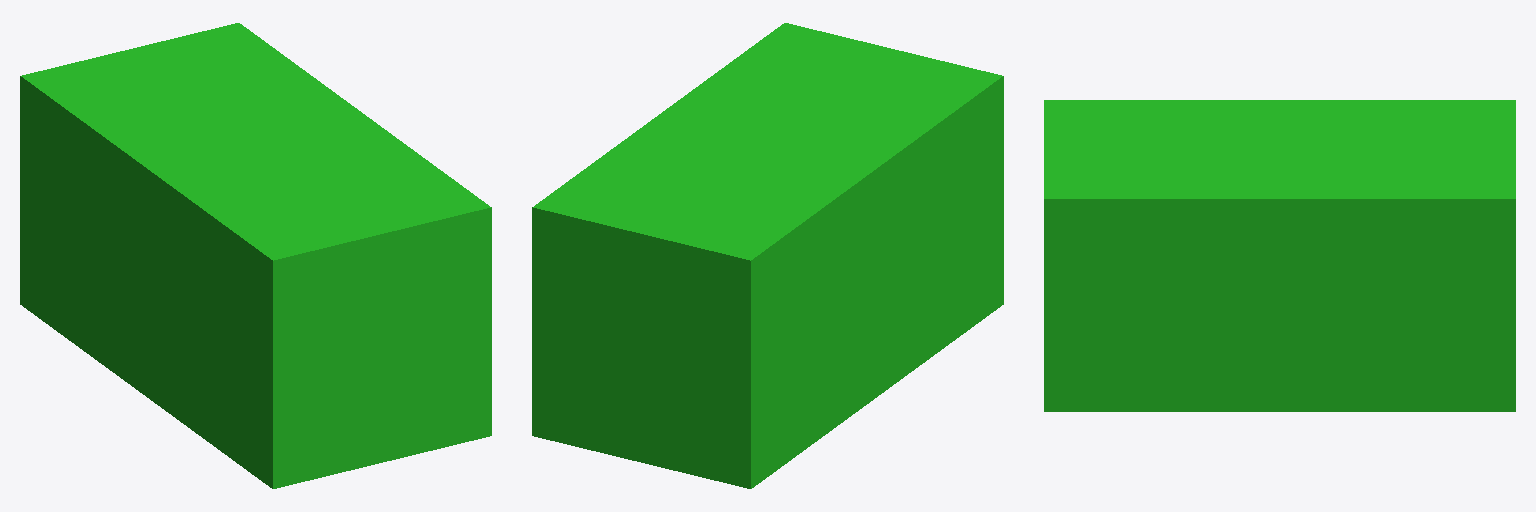
The robot description file, URDF, robot "block_2":
<?xml version="1.0"?>
<robot name="block_2">
  <link name="block_2_base_link">
    <contact>
      <lateral_friction value="0.5"/>
      <spinning_friction value=".001"/>
    </contact>
    <inertial>
      <origin rpy="0 0 0" xyz="0 0 0"/>
      <mass value="0.5"/>
      <inertia ixx="0.0000001" ixy="0" ixz="0" iyy="0.0000001" iyz="0" izz="0.0000001"/>
    </inertial>
    <visual>
      <origin rpy="0 0 0" xyz="0.0 0.0 0.0"/>
      <geometry>
        <box size="0.05 0.1 0.05"/>
      </geometry>
      <material name="blockmat">
        <color rgba="0.2 0.8 0.2 1"/>
      </material>
    </visual>
    <collision>
      <origin rpy="0 0 0" xyz="0.0 0.0 0.0"/>
      <geometry>
        <box size="0.05 0.1 0.05"/>
      </geometry>
    </collision>
  </link>
</robot>

--- Render facts (derived) ---
3 views of the same robot in one strip: view 1: azimuth 30°, elevation 25°; view 2: azimuth 150°, elevation 25°; view 3: azimuth 270°, elevation 25° (orthographic).
Robot: block_2 — 1 links, 0 joints (none); root link block_2_base_link; default pose: all joints at 0.
Links seen in each view (by area): view 1: block_2_base_link; view 2: block_2_base_link; view 3: block_2_base_link.
Link boxes in pixels (x1,y1,x2,y2): block_2_base_link: [20, 23, 491, 488]; block_2_base_link: [532, 23, 1003, 488]; block_2_base_link: [1044, 100, 1515, 411].
Bounding box of the posed robot: 0.05 × 0.1 × 0.05 m (x, y, z).
Geometry: primitives only (box / cylinder / sphere), no mesh files.